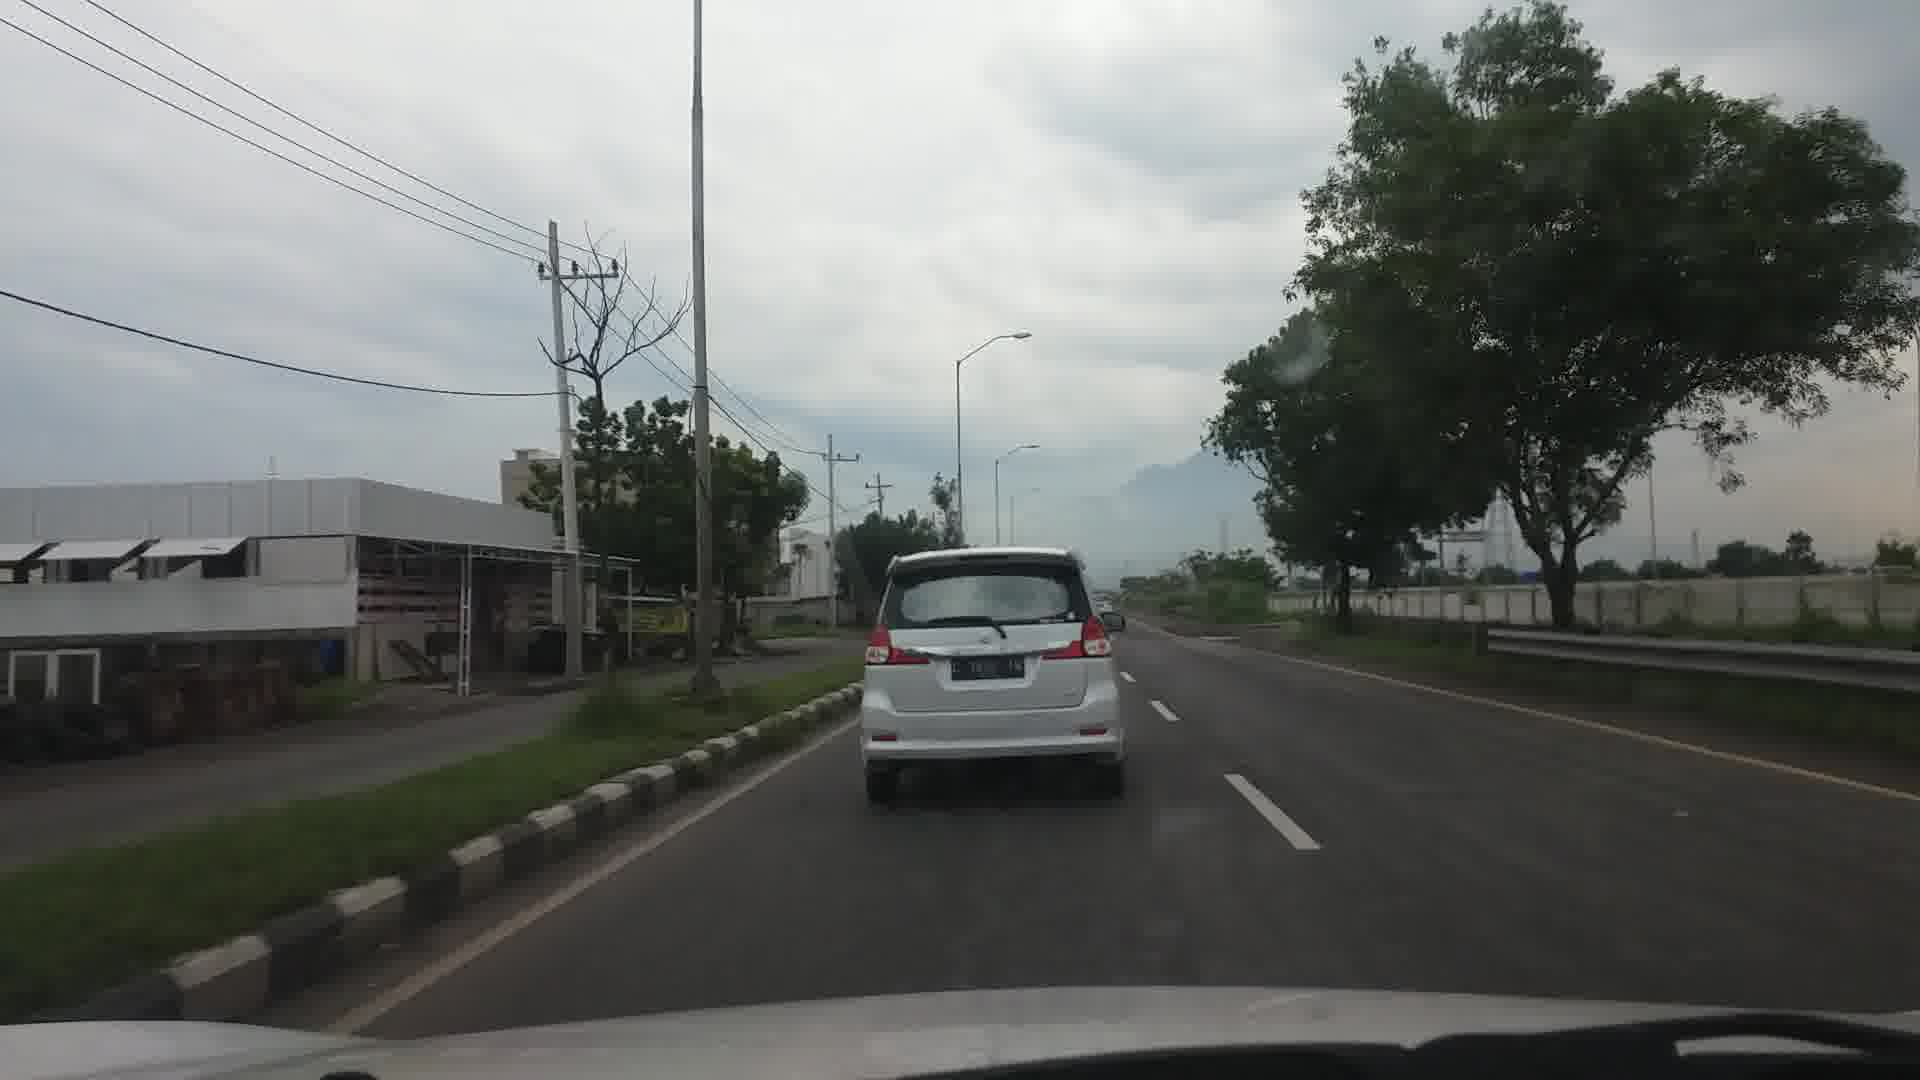plate_positive: (952, 655, 1025, 679)
